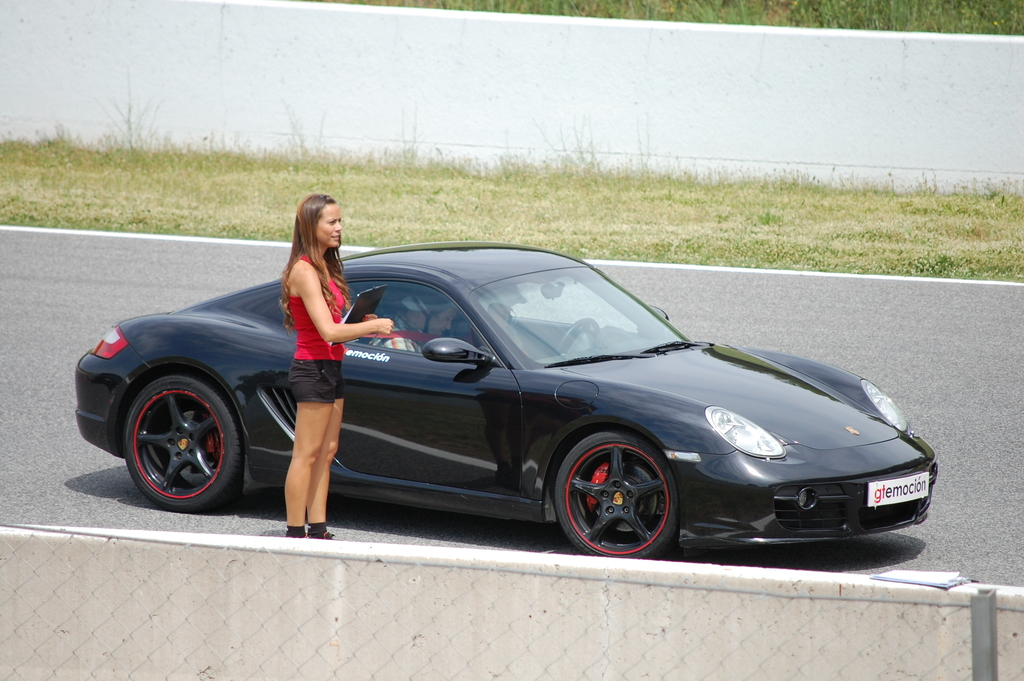Person: (278, 193, 393, 539), (366, 296, 456, 352)
